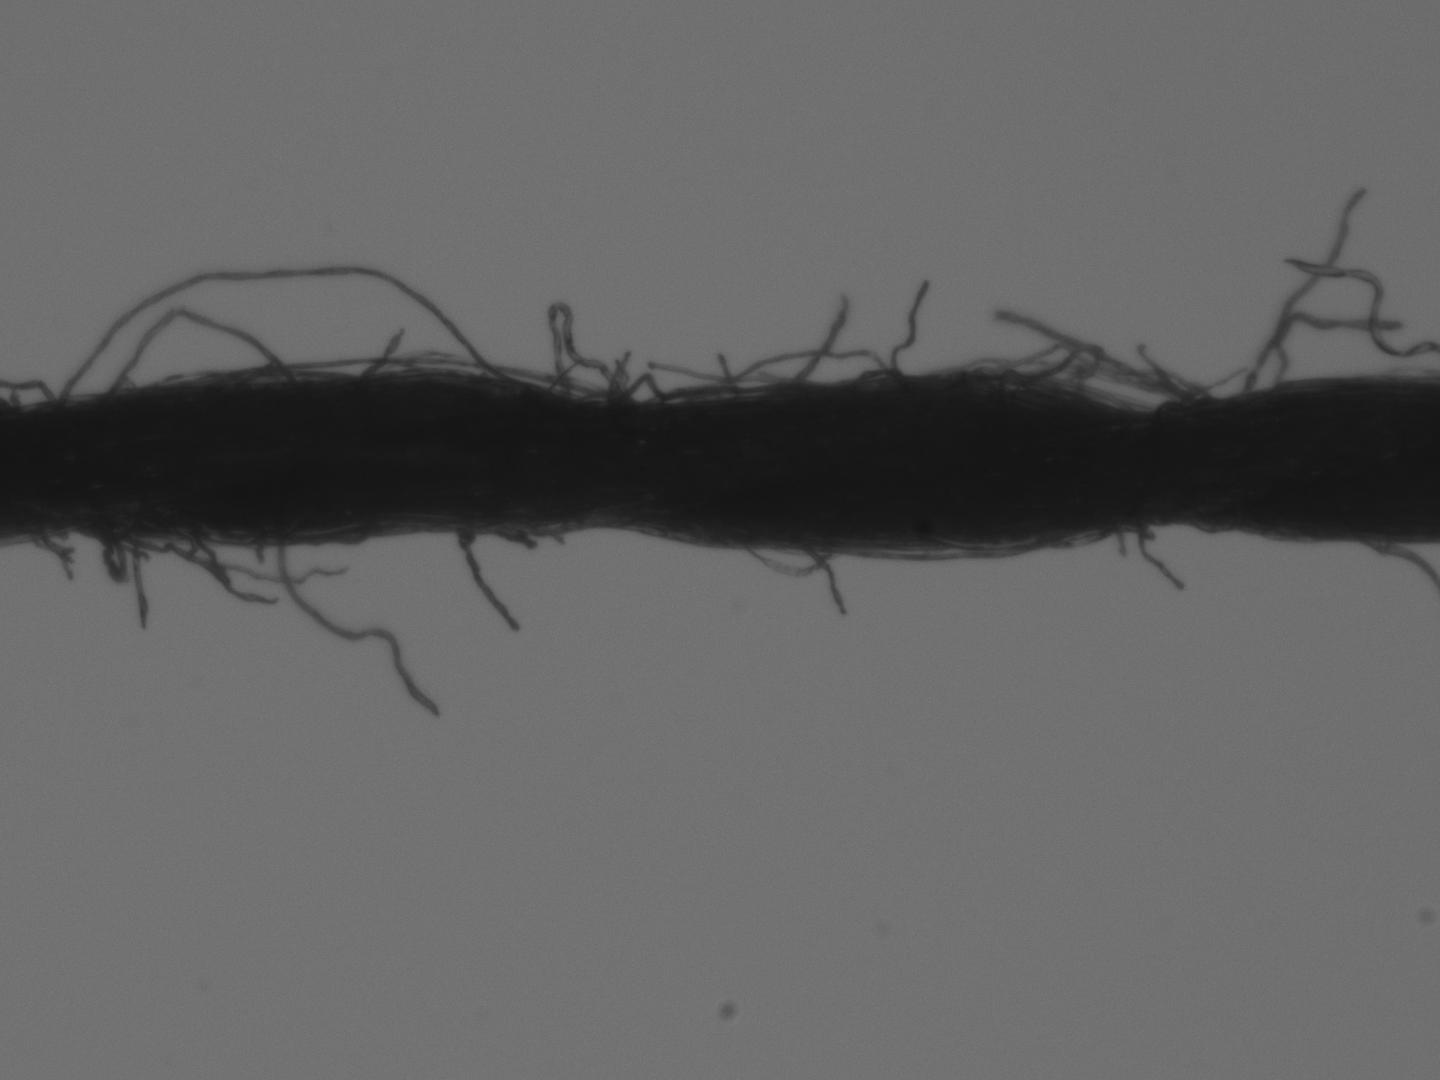loop_fiber: (52, 264, 506, 414), (101, 305, 287, 398), (952, 335, 1103, 402), (608, 364, 799, 411), (734, 344, 912, 389), (75, 522, 200, 584), (547, 298, 612, 406), (732, 541, 841, 576)
protruding_fiber: (450, 524, 524, 635), (786, 293, 852, 388)
